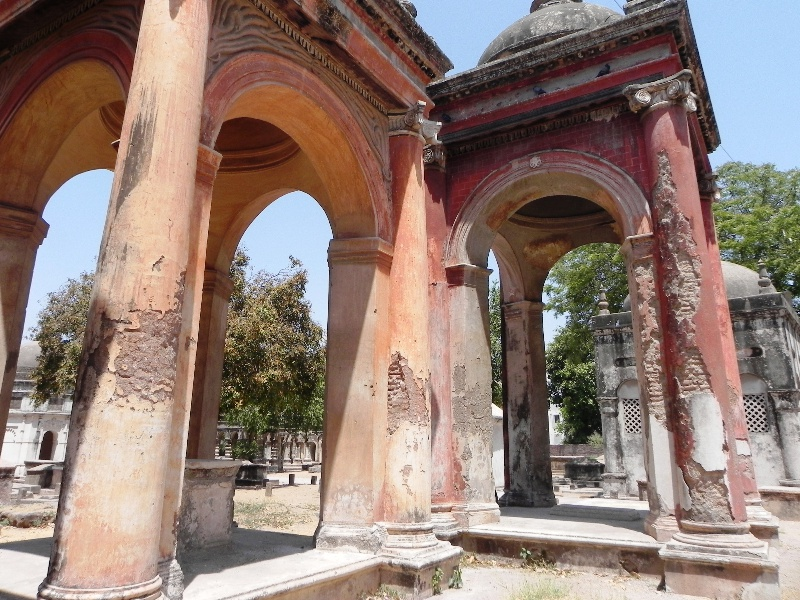Exposed Bricks: (648, 350, 710, 414), (384, 356, 409, 406)
Spalling: (84, 283, 184, 412), (646, 142, 707, 345), (670, 452, 740, 529)
